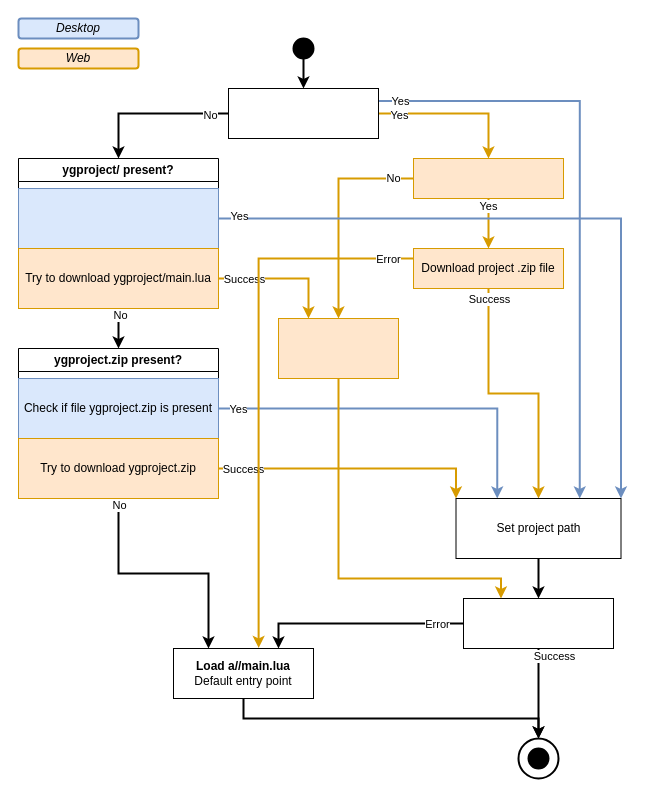
Image size: 647x796. Some labels were removed from this diagram. The shapes that lost their labels are listed below. From the top down, each one's centre as x and y in pixels, then its label:
At (303,113): "Project path via arg? Project path handed over via argv[1]".
At (488,178): "Is argv[1] path to .zip?".
At (118,218): "Check if directory ygproject/ is present".
At (338,348): "Set project URL".
At (538,623): "Load p//main.lua User entry point".
